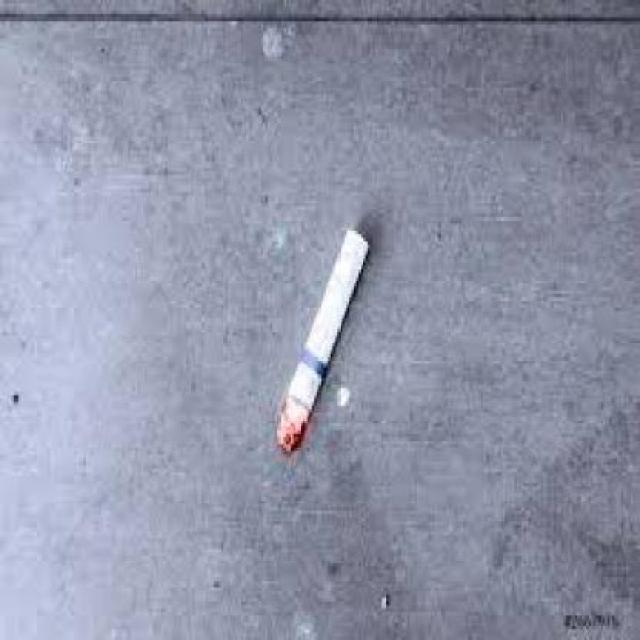cigarette: (240, 224, 388, 444)
